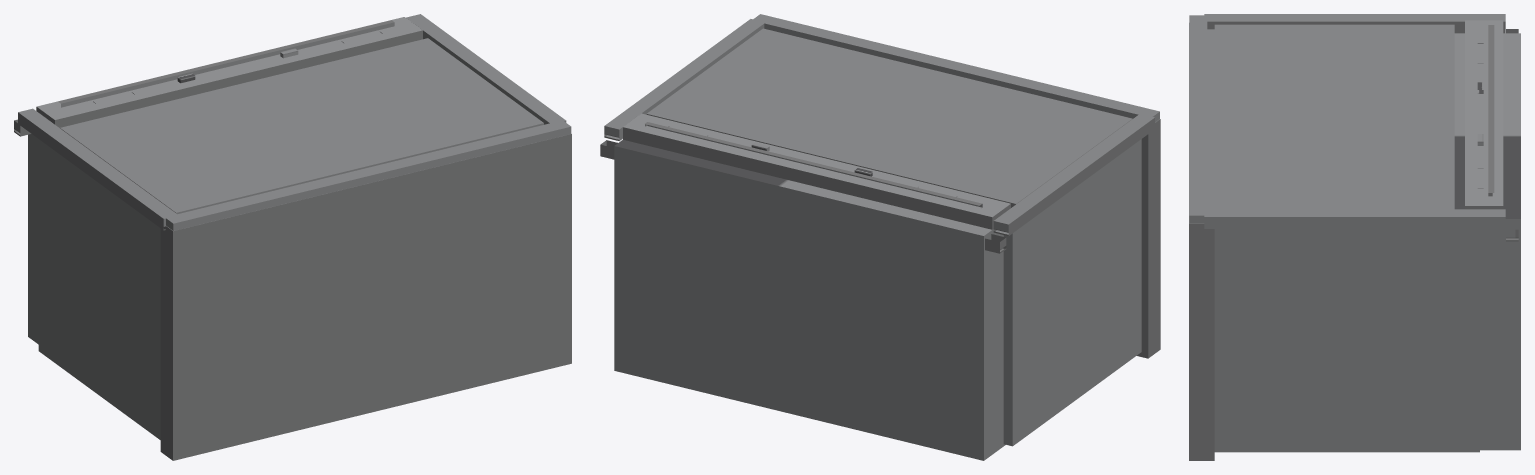
3 views of the same model, side by side, from view 1: azimuth 30°, elevation 25°; view 2: azimuth 150°, elevation 25°; view 3: azimuth 270°, elevation 25° (orthographic). The views are drawn at different scales.
Bounding box in the file's own units: 0.941 × 0.544 × 0.65.
